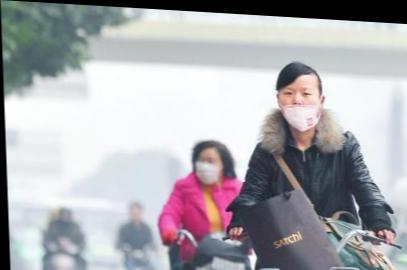OK: (194, 153, 222, 184)
WRONG: (278, 81, 322, 126)
